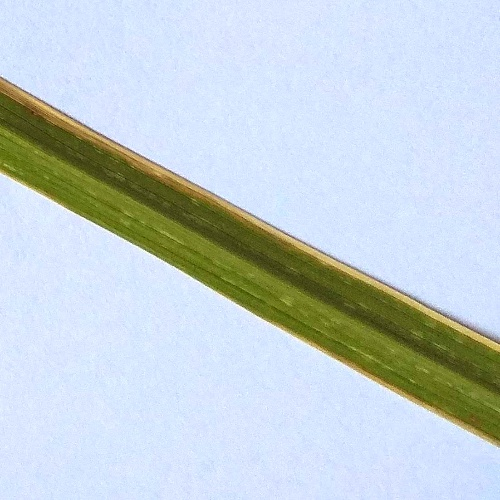Busuk Leher: (34, 97, 79, 130), (82, 126, 127, 159), (128, 147, 181, 173), (173, 172, 226, 198), (220, 197, 273, 223), (260, 221, 313, 247), (304, 246, 357, 272), (1, 68, 35, 102)
